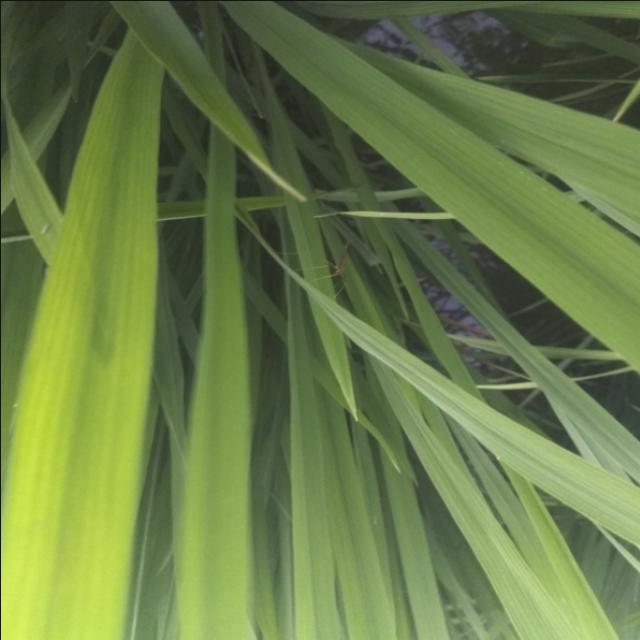green leaf hopper: (270, 234, 360, 304)
